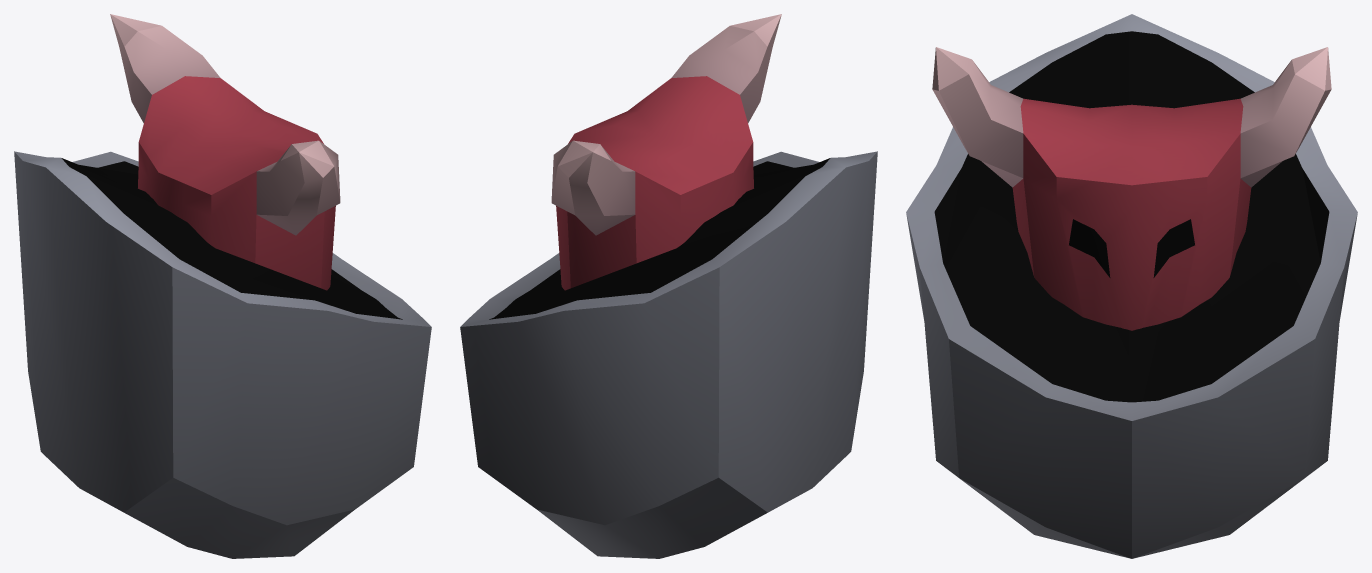
Rendered from enemy flying.fbx.
The picture shows the model from 3 angles, left to right: view 1: azimuth 30°, elevation 25°; view 2: azimuth 150°, elevation 25°; view 3: azimuth 270°, elevation 25°; orthographic projection. The views are drawn at different scales.
Visible parts, largest first — view 1: enemy flying; view 2: enemy flying; view 3: enemy flying.
Boxes of the visible parts, <box> form: enemy flying: <box>14,14,431,558</box>; enemy flying: <box>460,14,877,558</box>; enemy flying: <box>906,14,1357,558</box>.
Size of the model in its own units: 151 by 183 by 160.
